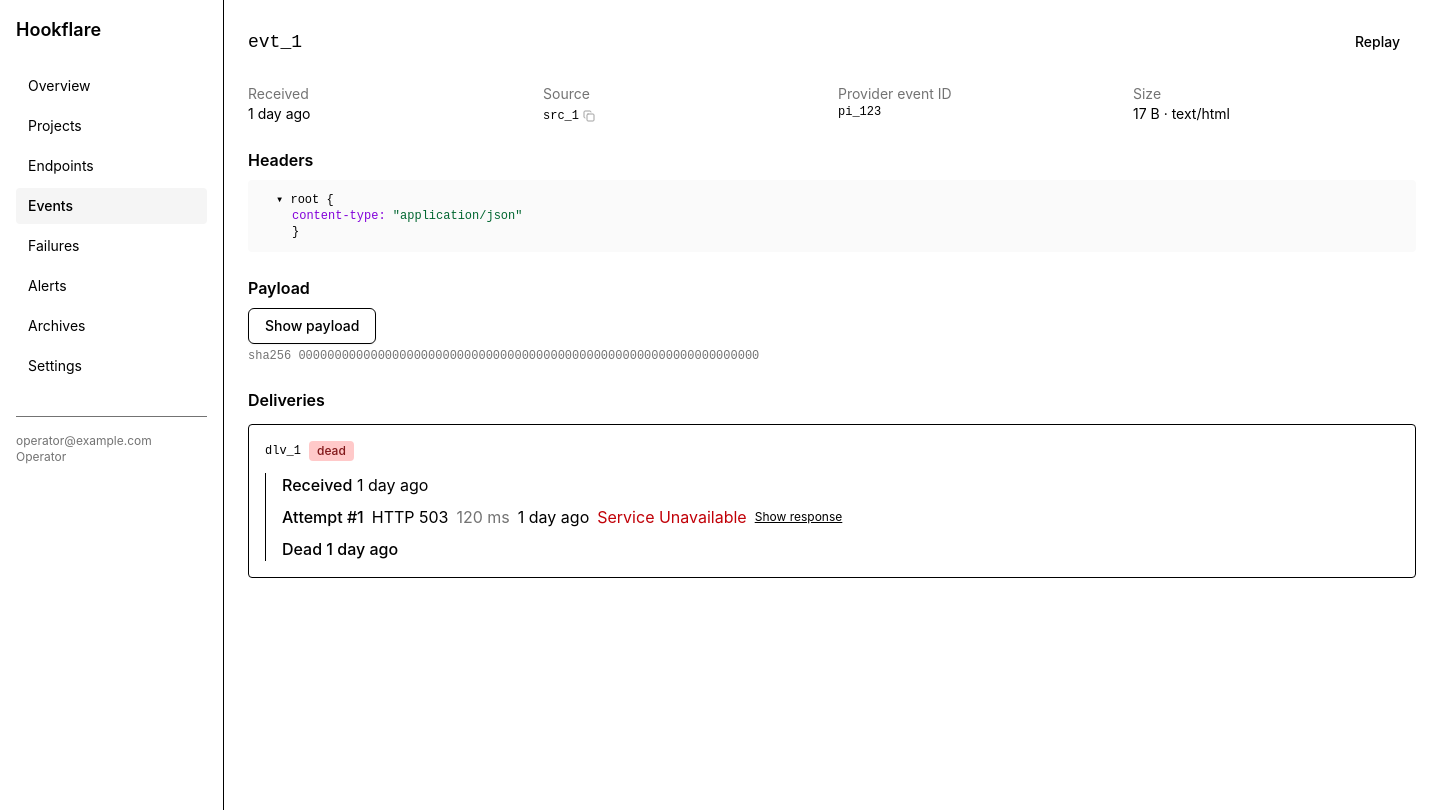
Test: Event Detail › renders an HTML payload as text without tripping the session banner
Click the button "Show payload" at (312, 326), box [248,308,376,344]
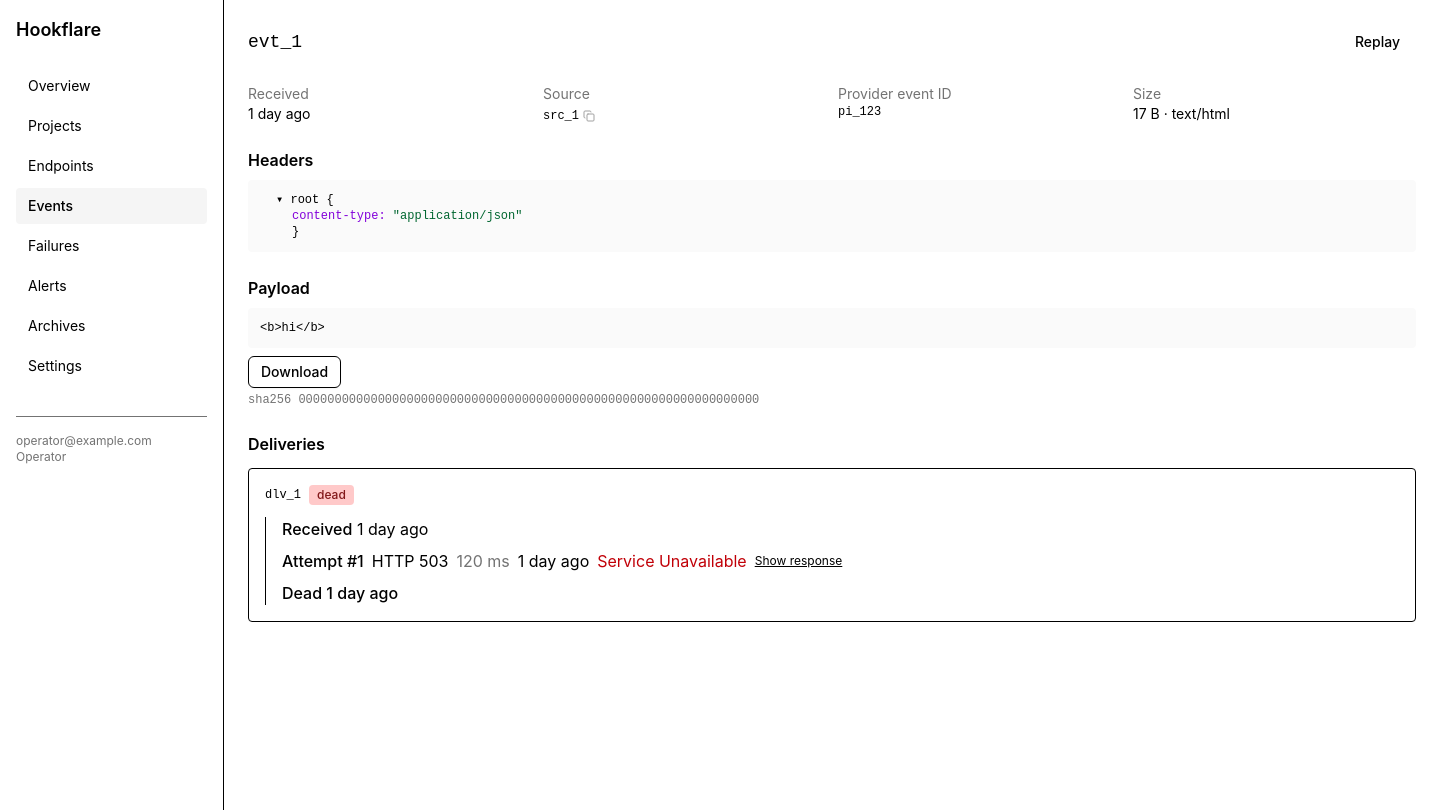
Now the text "<b>hi</b>" is shown, box [248,308,1416,348]
